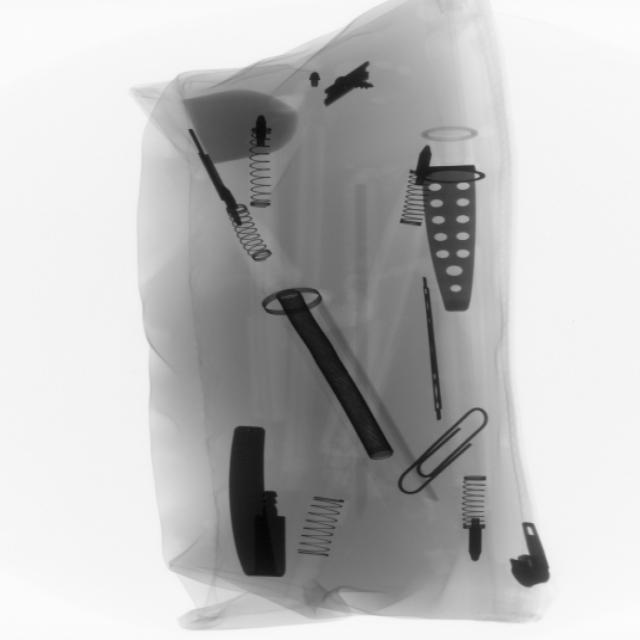SHURIKEN: (414, 271, 454, 426)
